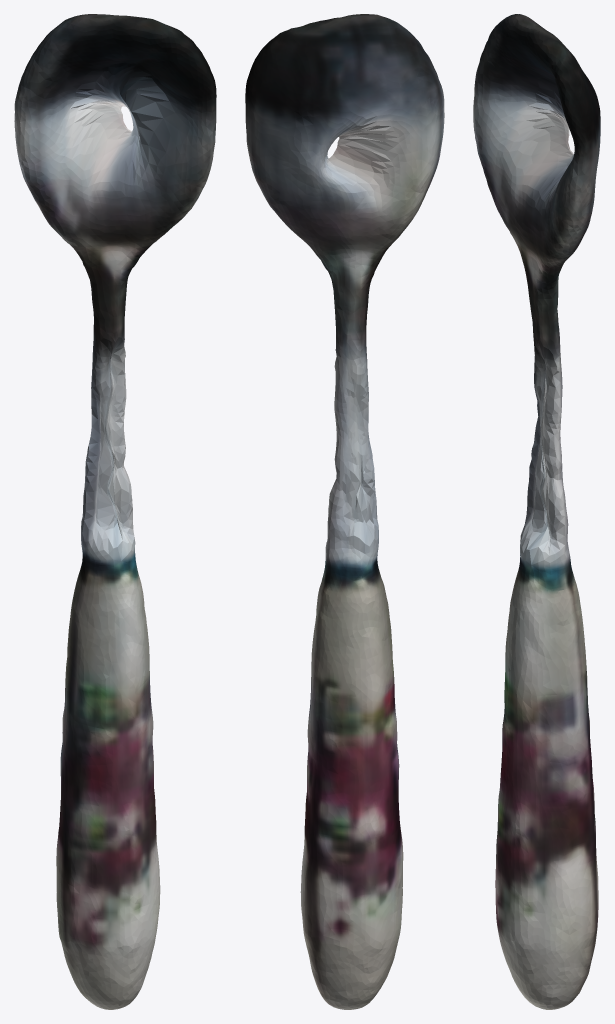
Rendered from mesh_scaled.obj.
The picture shows the model from 3 angles, left to right: view 1: azimuth 30°, elevation 25°; view 2: azimuth 210°, elevation 25°; view 3: azimuth 330°, elevation 25°; orthographic projection.
Visible parts, largest first — view 1: mesh_scaled; view 2: mesh_scaled; view 3: mesh_scaled.
Part boxes in pixels (box(x1,y1,x2,y2)): mesh_scaled: box(14, 14, 216, 1009); mesh_scaled: box(245, 14, 444, 1009); mesh_scaled: box(473, 14, 600, 1009).
Size of the model in its own units: 0.0363 by 0.2196 by 0.0253.
1 material, 1 textured.
